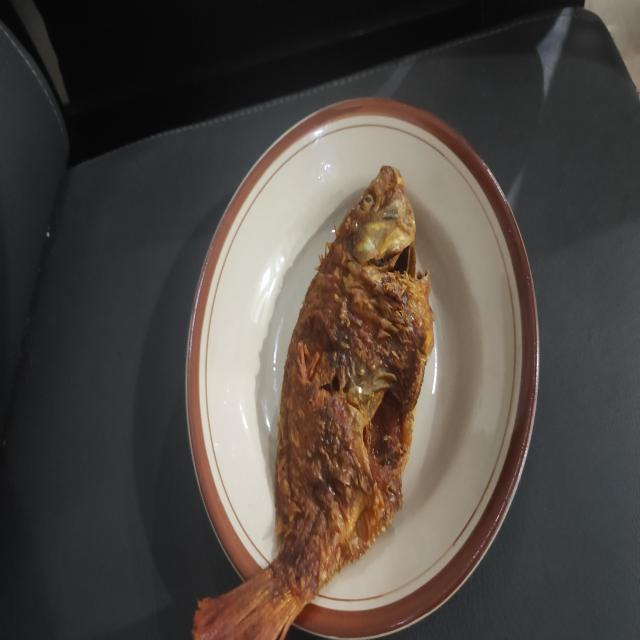ikan_mujair: (192, 166, 432, 640)
